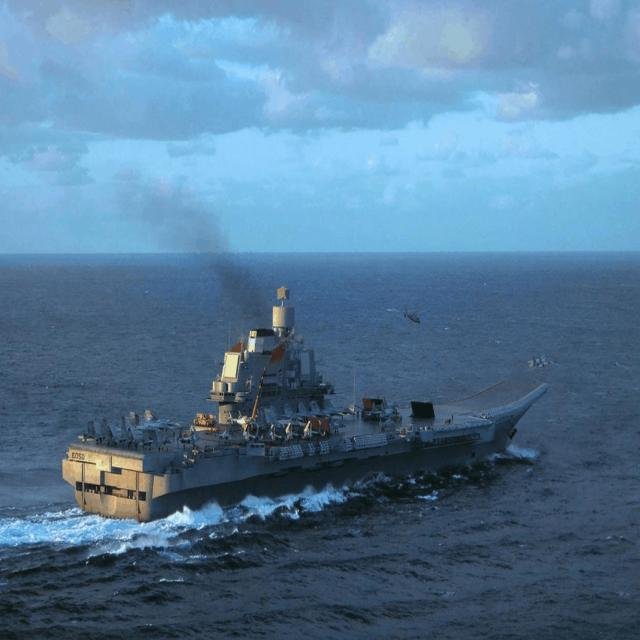navalvessels: (62, 291, 551, 520)
